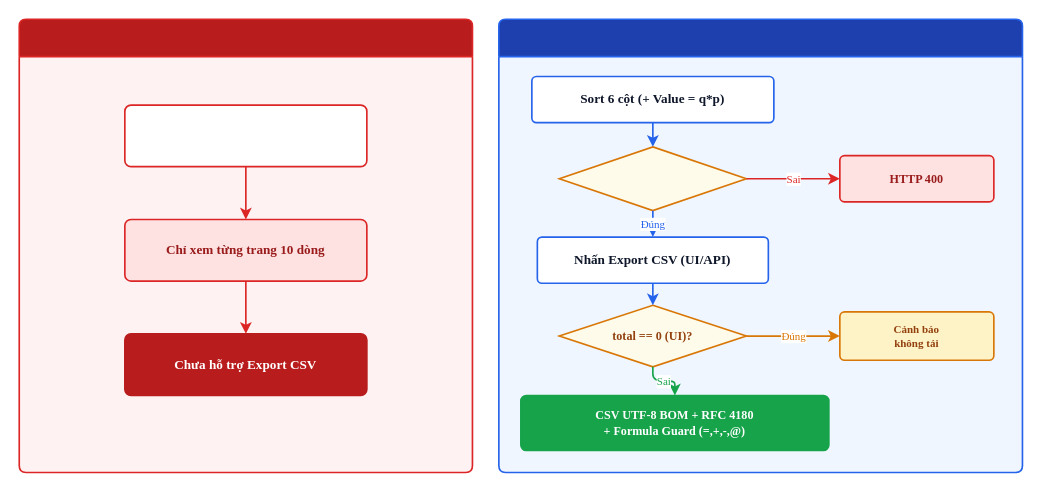
Some shapes in this 1043 by 493 pixel diagram are drawn without their labels. The box of each missing label's shape, as (x1, y1, x2, y2) in pixels:
Bảng sắp cố định (Không bấm tiêu đề cột): (124, 104, 367, 167)
CŨ — Hệ thống gốc (v1.0.0): (18, 18, 473, 473)
MỚI — Sau bảo trì (v1.1): (498, 18, 1023, 473)
Thuộc whitelist?: (558, 146, 747, 211)
